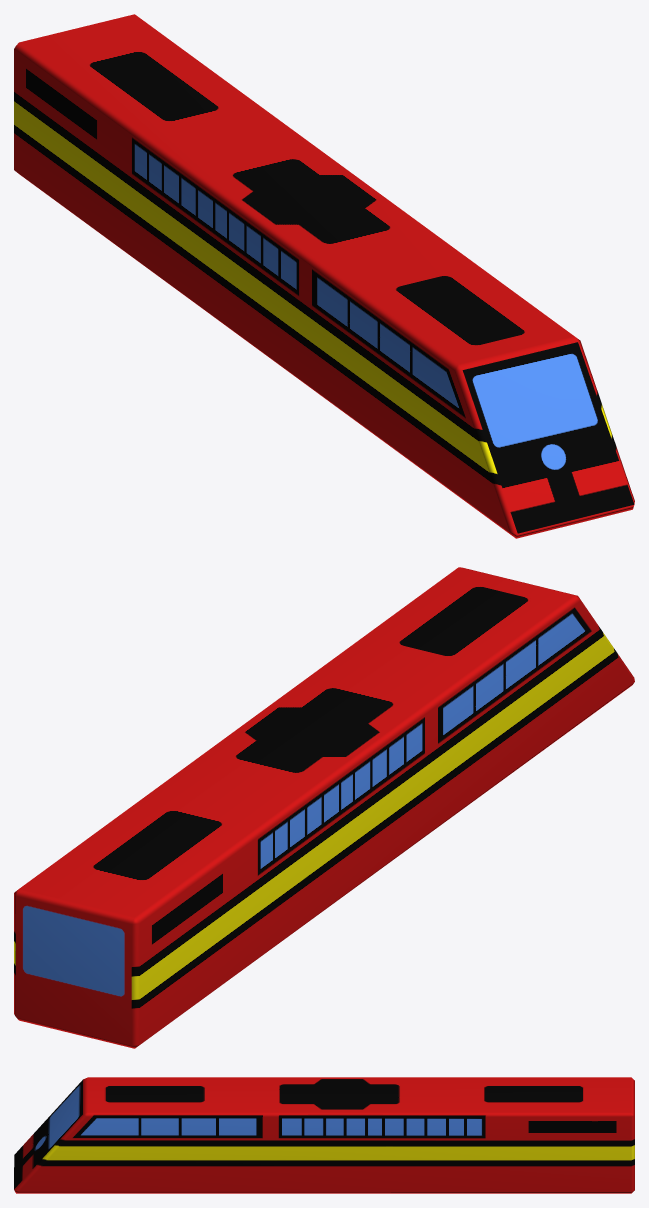
The model's file is Train.fbx.
3 renders of one model, top to bottom at view 1: azimuth 30°, elevation 25°; view 2: azimuth 150°, elevation 25°; view 3: azimuth 270°, elevation 25°, orthographic. The views are drawn at different scales.
Parts seen in each view (by area): view 1: pCube1; view 2: pCube1; view 3: pCube1.
Boxes of the visible parts, x1,y1,x2,y2 form: pCube1: (14, 14, 634, 538); pCube1: (14, 567, 634, 1048); pCube1: (14, 1077, 634, 1193).
Size of the model in its own units: 16.14 by 16.18 by 112.
Materials: 1 (1 with a texture image).
